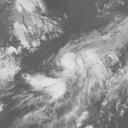cyclone: (52, 33, 122, 91)
